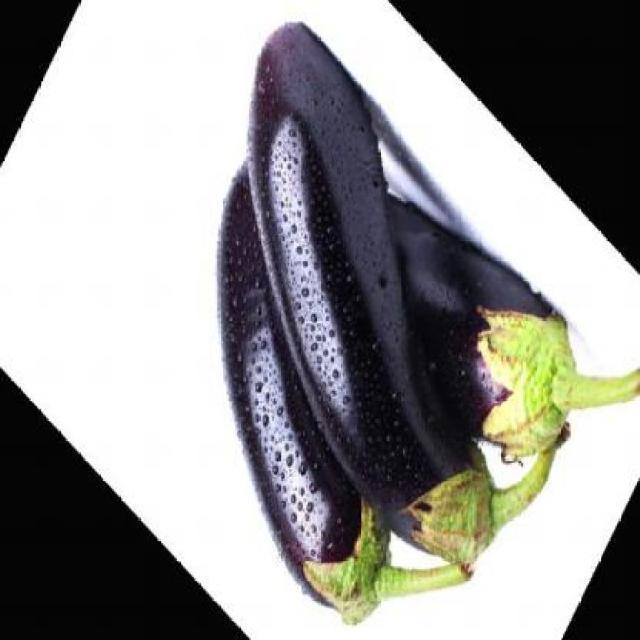eggplant: (219, 17, 581, 619), (208, 151, 513, 633), (333, 109, 639, 551)
